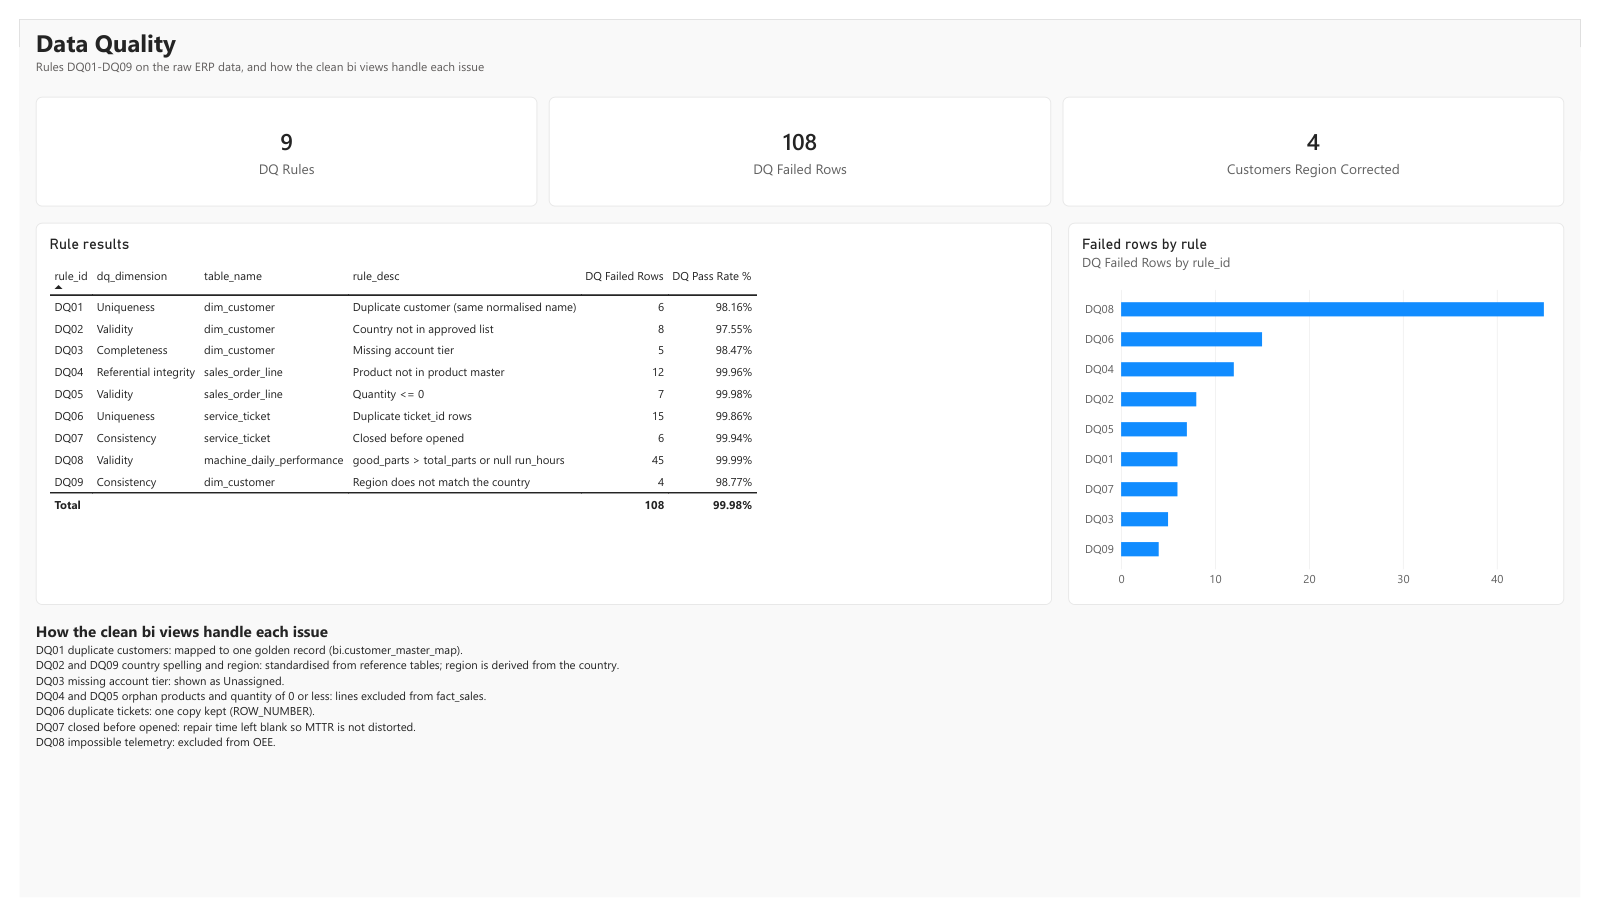

The page's visual inventory and layout, read from the dashboard file:
{"tool":"powerbi","page":{"name":"Data Quality","canvas":[1920,1080],"ordinal":3},"visuals":[{"type":"textbox","box":[20,8,1480,74],"z":0},{"type":"card","fields":{"Values":["_Measures.DQ Rules"]},"box":[20,95,617.3,135],"z":1},{"type":"card","fields":{"Values":["_Measures.DQ Failed Rows"]},"box":[651.3,95,617.3,135],"z":2},{"type":"card","fields":{"Values":["_Measures.Customers Region Corrected"]},"box":[1282.7,95,617.3,135],"z":3},{"type":"tableEx","title":"Rule results","fields":{"Values":["vw_data_quality_results.rule_id","vw_data_quality_results.dq_dimension","vw_data_quality_results.table_name","vw_data_quality_results.rule_desc","_Measures.DQ Failed Rows","_Measures.DQ Pass Rate %"]},"box":[20,250,1250,470],"z":4},{"type":"clusteredBarChart","title":"Failed rows by rule","fields":{"Category":["vw_data_quality_results.rule_id"],"Y":["_Measures.DQ Failed Rows"]},"box":[1290,250,610,470],"z":5},{"type":"textbox","box":[20,740,1880,325],"z":6}]}

Visuals, with their boxes in screenshot pixels (x1, y1, x2, y2), scaled from the page's 1920x1080 canvas onto the 1600x918 screenshot:
textbox: left=17, top=7, right=1250, bottom=70
card - _Measures.DQ Rules: left=17, top=81, right=531, bottom=196
card - _Measures.DQ Failed Rows: left=543, top=81, right=1057, bottom=196
card - _Measures.Customers Region Corrected: left=1069, top=81, right=1583, bottom=196
"Rule results" tableEx: left=17, top=212, right=1058, bottom=612
"Failed rows by rule" clusteredBarChart: left=1075, top=212, right=1583, bottom=612
textbox: left=17, top=629, right=1583, bottom=905
